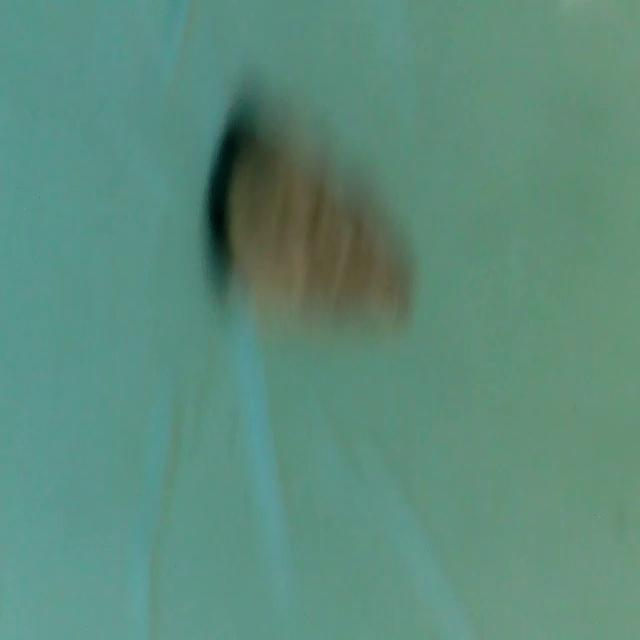rock: (207, 127, 392, 342)
